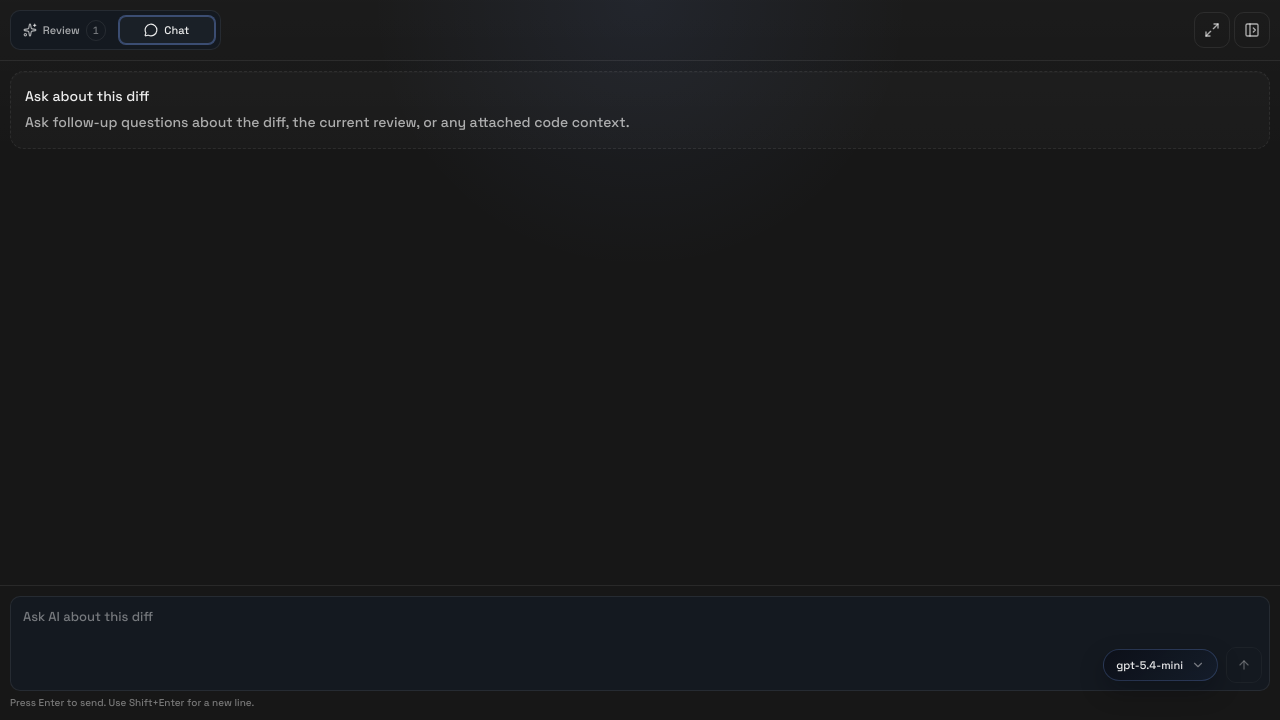
Test: ReviewAssistantPanel › switches between chat and review tabs
Step 1. Click the radio button with aria-label "review tab" → click(64, 30), box [15,15,114,45]
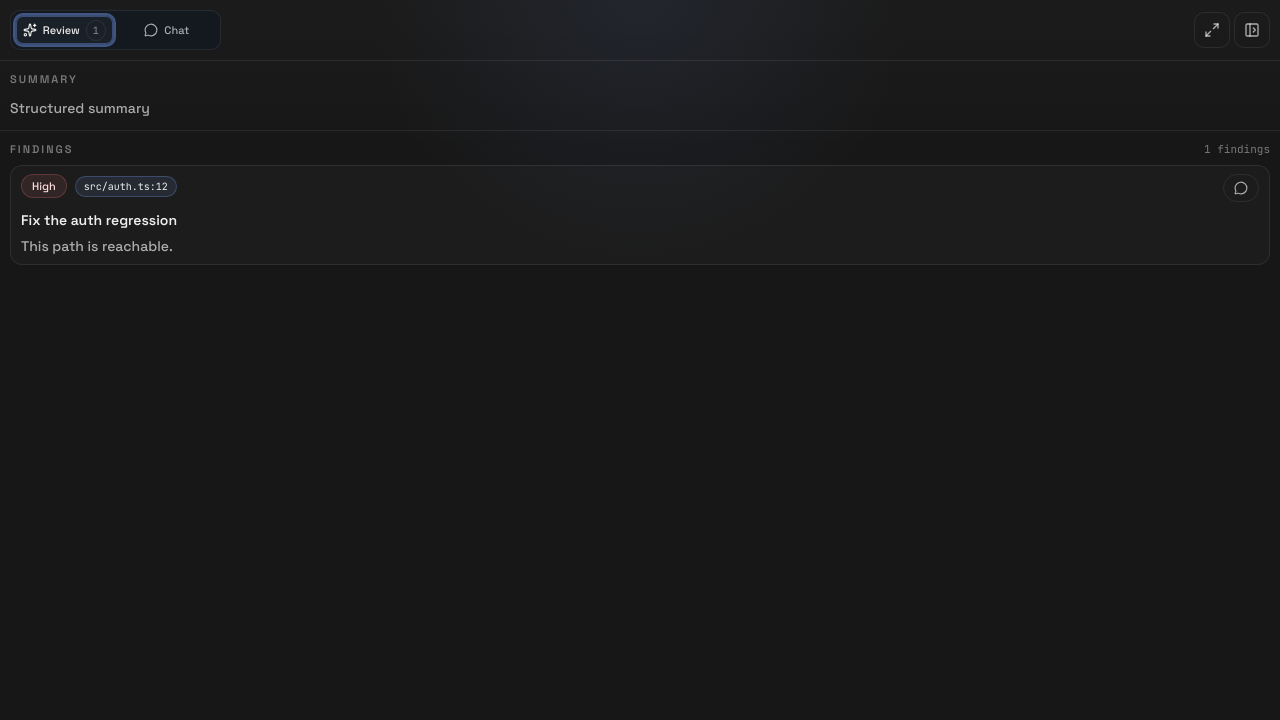
Result: the text "Fix the auth regression" is shown at [21,211,177,229]
Step 2. Click the radio button with aria-label "chat tab" → click(167, 30), box [118,15,216,45]
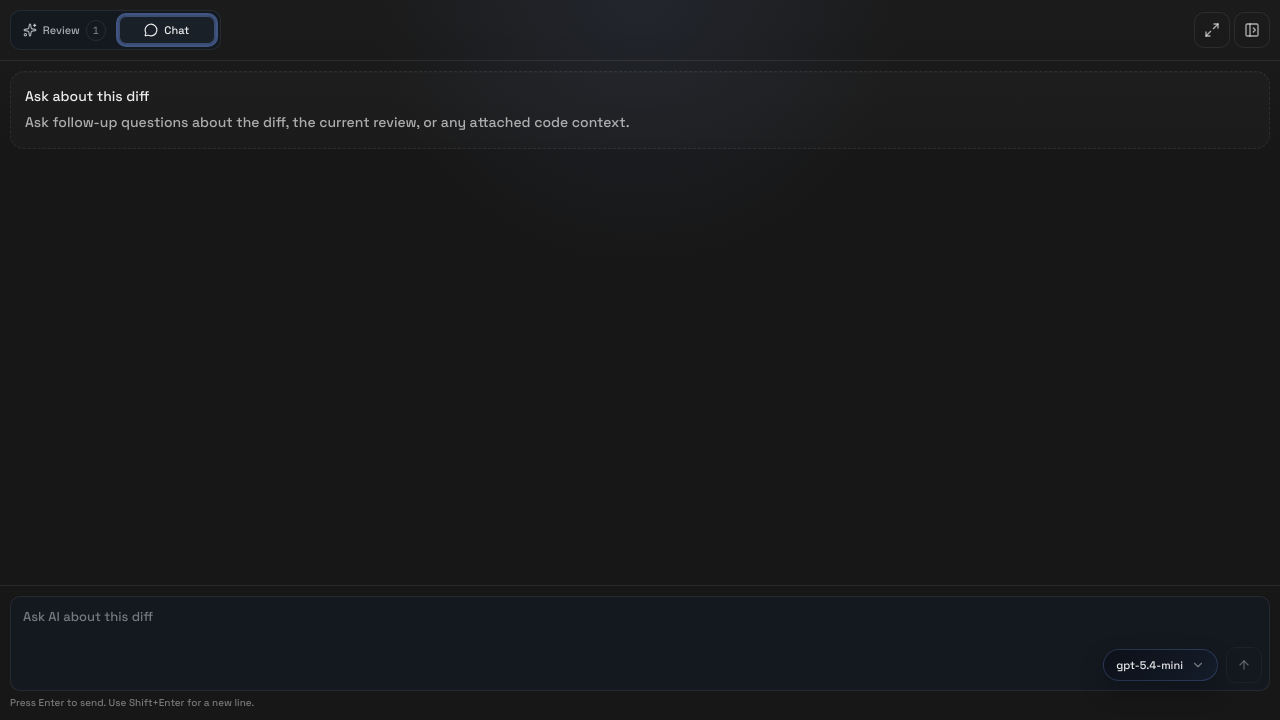
Result: the text "Ask about this diff" is shown at [25,87,150,105]
